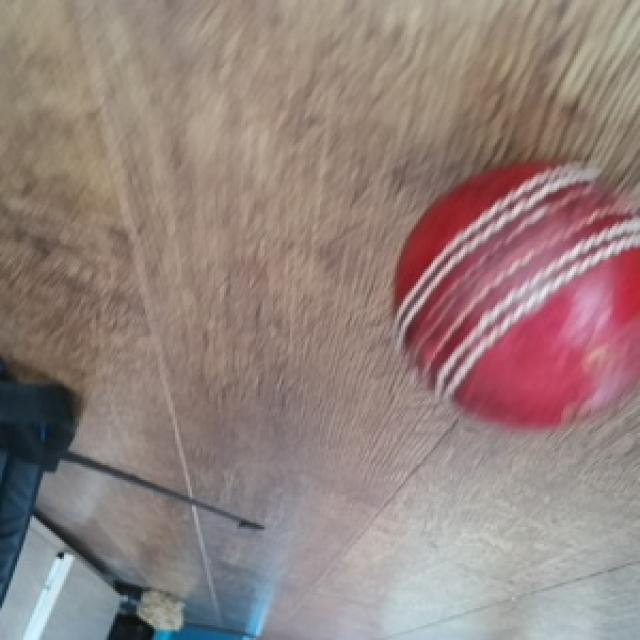ball: (390, 160, 640, 435)
